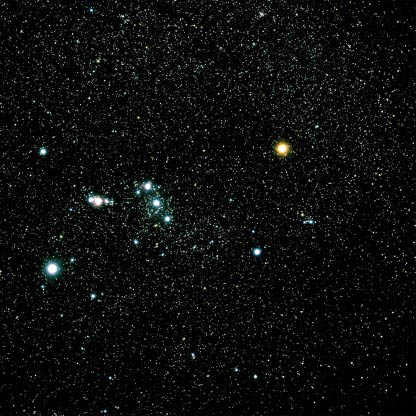Orion: (265, 135, 300, 163), (35, 256, 68, 283), (244, 237, 271, 269), (32, 141, 56, 162), (159, 214, 179, 232), (139, 177, 156, 196), (147, 196, 166, 211)
